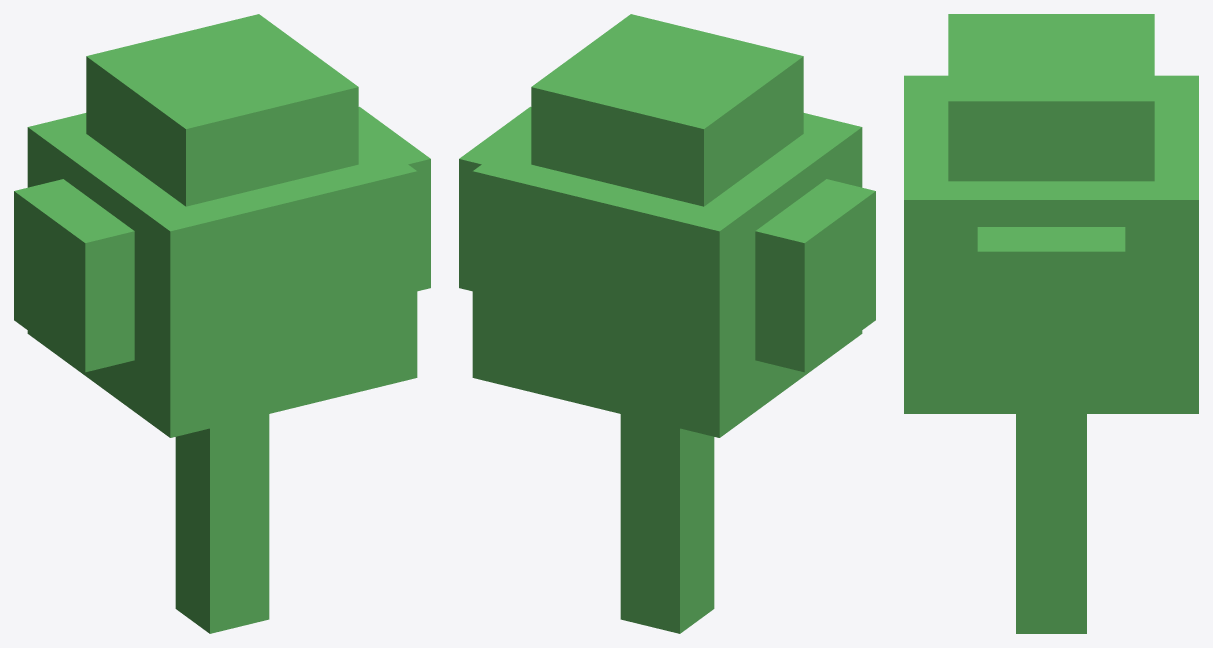
The model's file is tree.glb.
3 views of the same model, side by side, from view 1: azimuth 30°, elevation 25°; view 2: azimuth 150°, elevation 25°; view 3: azimuth 270°, elevation 25° (orthographic). The views are drawn at different scales.
Parts seen in each view (by area): view 1: Tree; view 2: Tree; view 3: Tree.
Boxes of the visible parts, x1,y1,x2,y2 form: Tree: (14, 14, 430, 633); Tree: (459, 14, 875, 633); Tree: (904, 14, 1198, 633).
Bounding box in the file's own units: 1.4 × 2.1 × 1.
